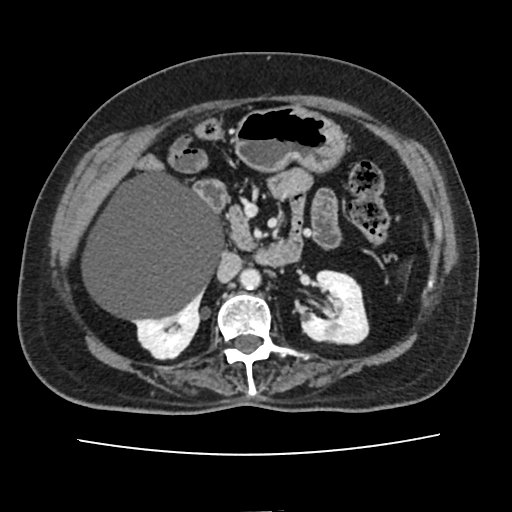aorta: (238, 262, 267, 291)
